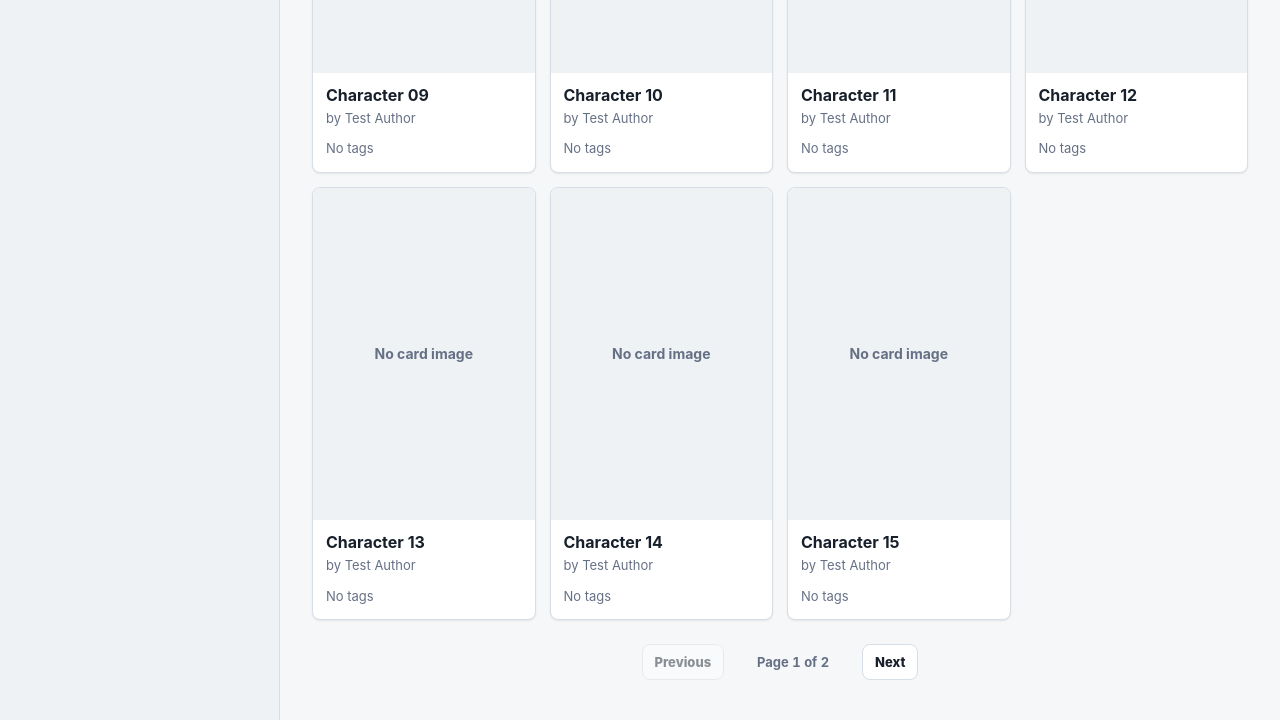
Test: CharacterListPage › shows fifteen cards per page and fills the next page with the remainder
(page scrolled)
Expected: the heading "Character 15" is shown, [801, 532, 900, 552]
Expected: the text "Character 16" is not shown
Click the button "Next".
click(890, 662)  # box [862, 644, 918, 680]
(page scrolled)
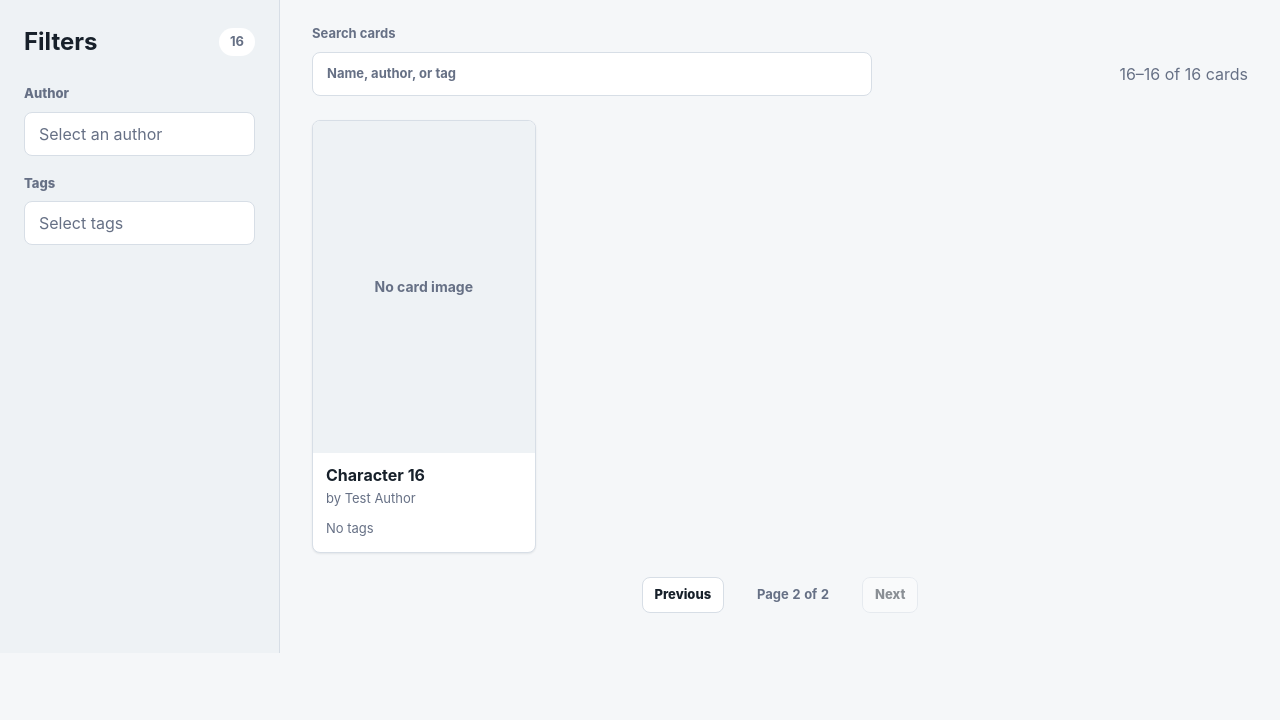
Result: the heading "Character 16" is shown at [326, 465, 425, 485]
Result: the text "16–16 of 16 cards" is shown at [1119, 62, 1248, 86]
Result: the text "Page 2 of 2" is shown at [757, 586, 829, 602]
